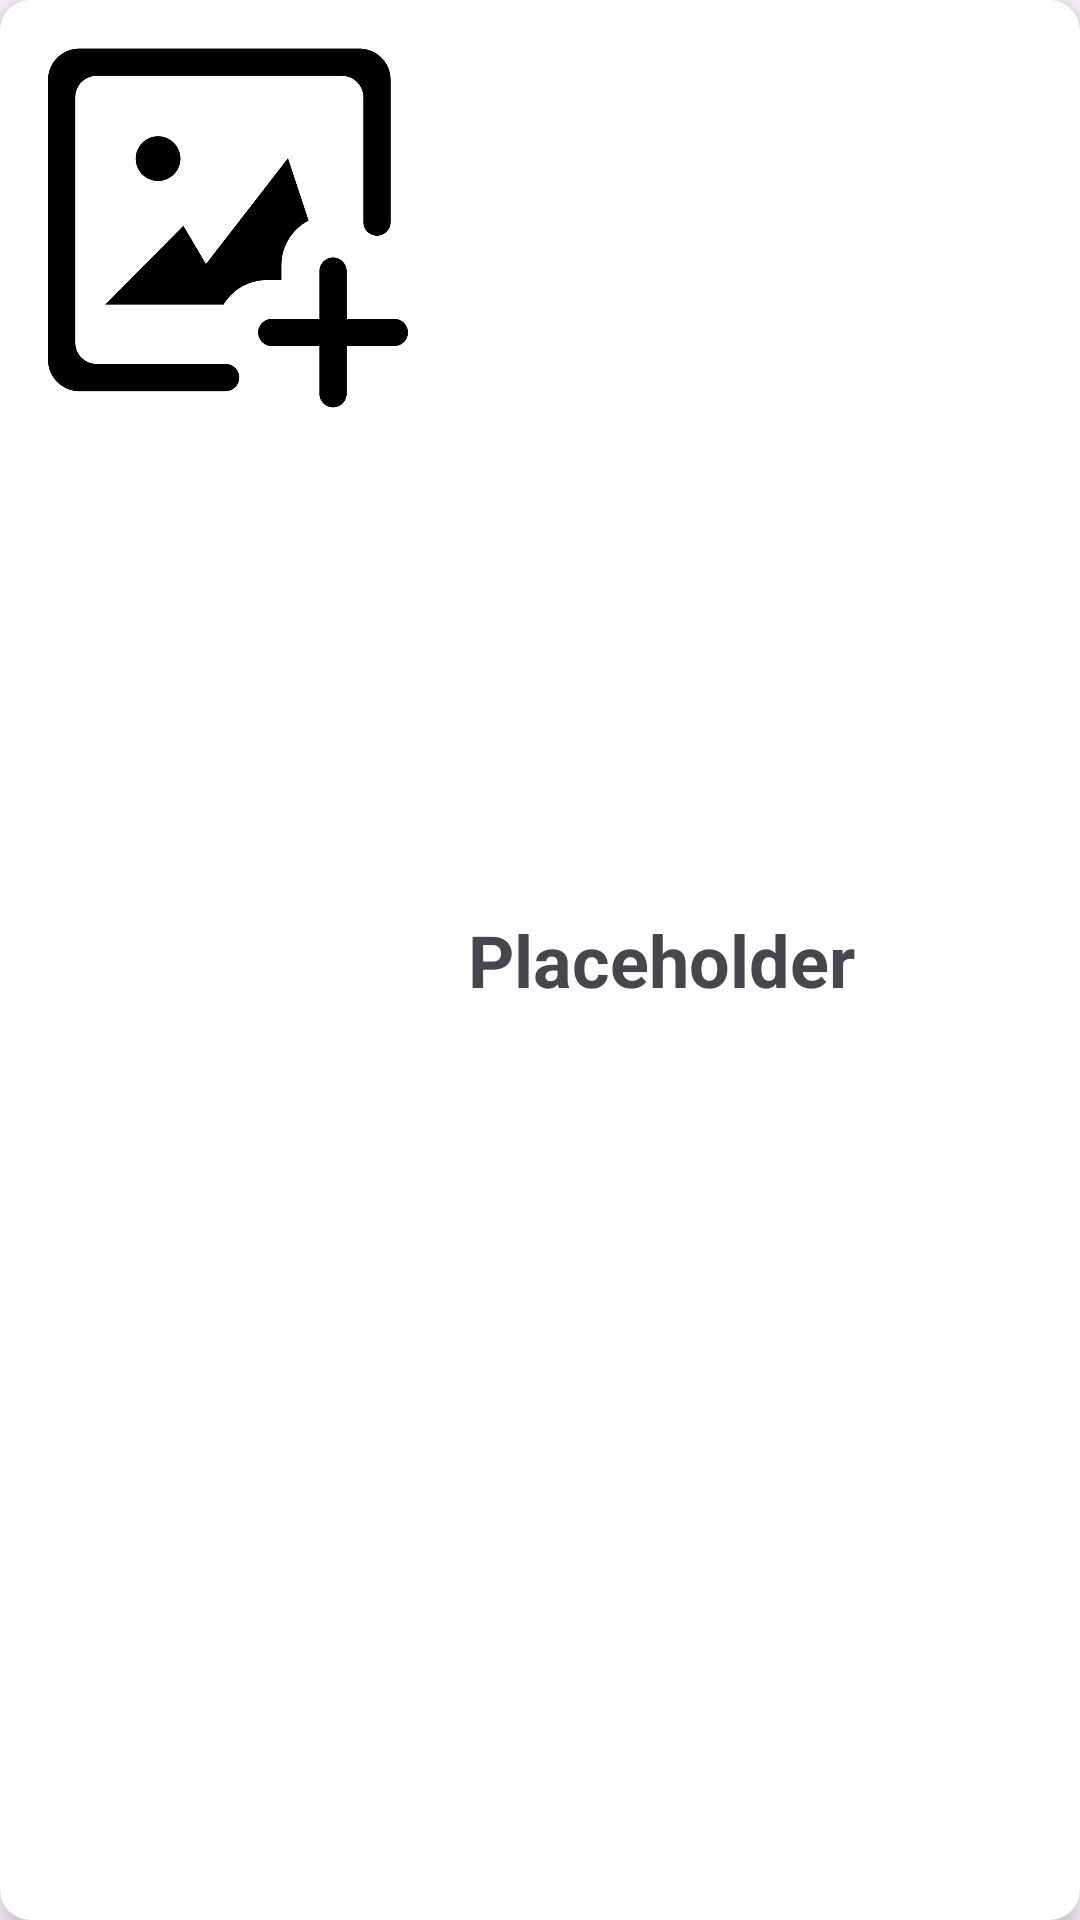

Icon bounding boxes for this 1080x1920 phone screenshot, format (x1, y1, x2, y2):
uploading: (48, 48, 408, 408)
